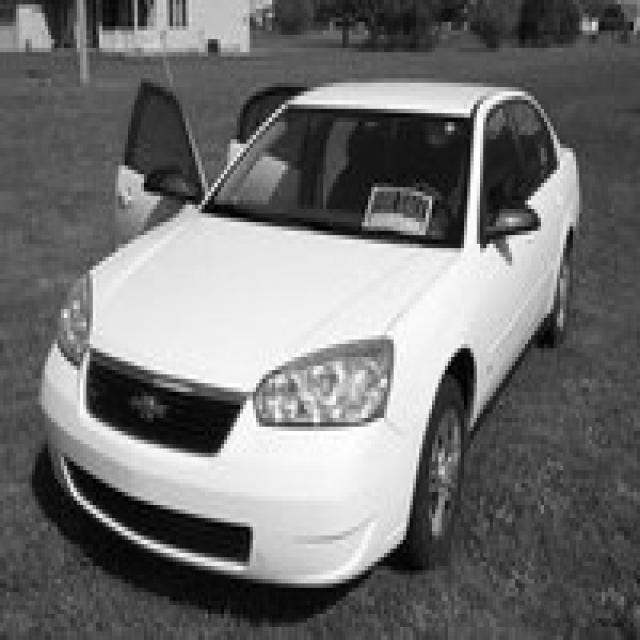car: (35, 74, 579, 588)
